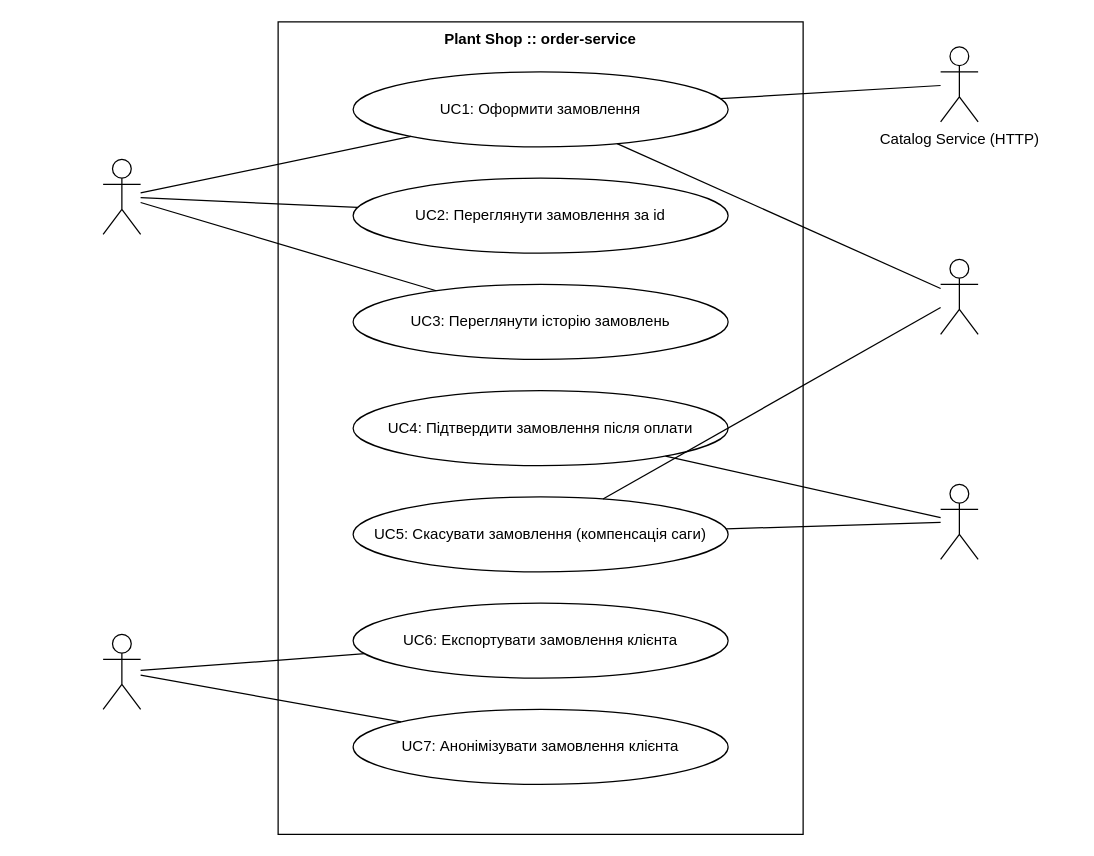
Some shapes in this 1094 by 856 pixel diagram are drawn without their labels. The box of each missing label's shape, as (x1, y1, x2, y2) in pixels:
Customer (HTTP via gateway): (102, 158, 141, 234)
Inventory Service (HTTP + Kafka): (939, 258, 978, 334)
Payment Service (Kafka): (939, 483, 978, 559)
User Service (internal HTTP): (102, 633, 141, 709)
